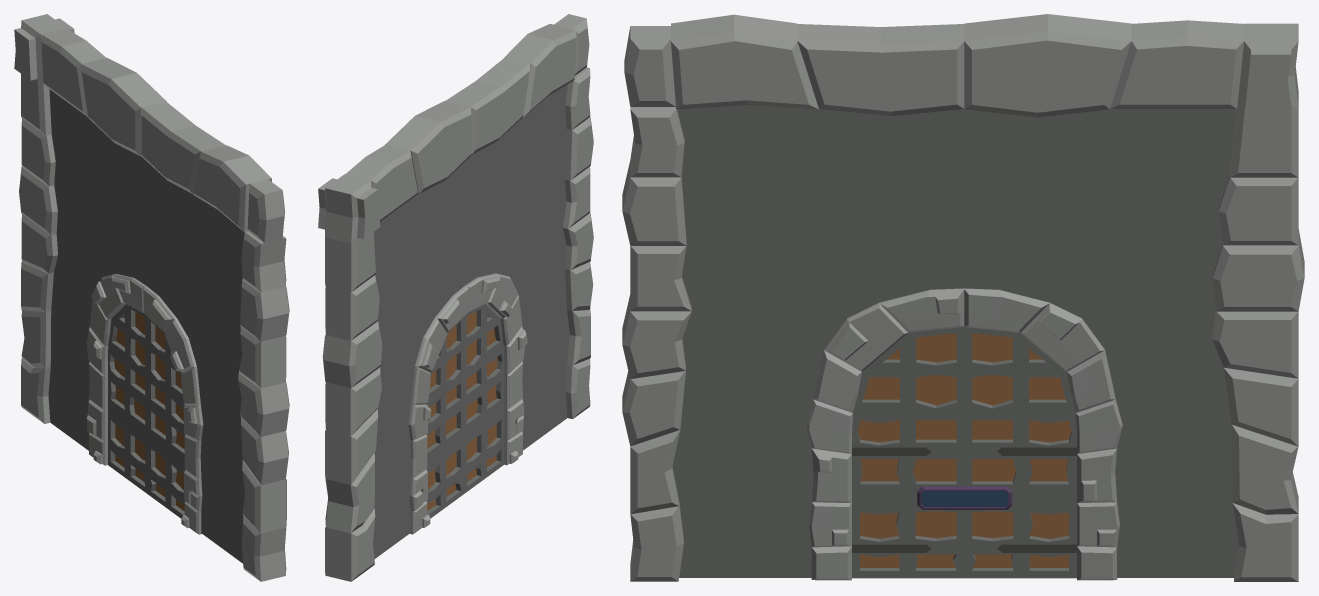
The model's file is Door.fbx.
3 views of the same model, side by side, from view 1: azimuth 30°, elevation 25°; view 2: azimuth 150°, elevation 25°; view 3: azimuth 270°, elevation 25° (orthographic). The views are drawn at different scales.
Visible parts, largest first — view 1: Wall.001, Arc, Door R, Door L; view 2: Wall.001, Arc, Door L, Door R; view 3: Wall.001, Arc, Door L, Door R, Keys.
Part boxes in pixels (left/top/right/bottom): Wall.001: left=14, top=14, right=289, bottom=581; Arc: left=86, top=274, right=203, bottom=534; Door R: left=108, top=304, right=148, bottom=493; Door L: left=148, top=318, right=185, bottom=518; Wall.001: left=318, top=14, right=593, bottom=581; Arc: left=408, top=273, right=527, bottom=534; Door L: left=463, top=303, right=503, bottom=493; Door R: left=426, top=317, right=463, bottom=518; Wall.001: left=622, top=14, right=1304, bottom=581; Arc: left=806, top=288, right=1122, bottom=580; Door L: left=852, top=327, right=964, bottom=578; Door R: left=964, top=327, right=1076, bottom=578; Keys: left=917, top=486, right=1012, bottom=509.
Size of the model in its own units: 65.31 by 541 by 605.
